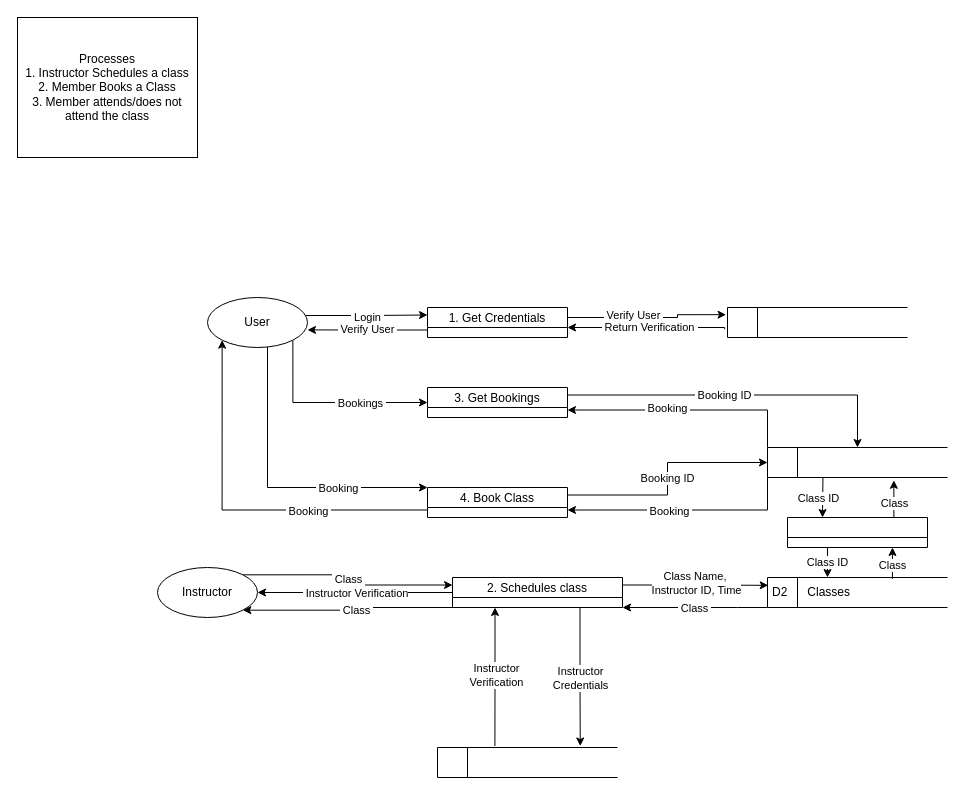
The diagram is 965 pixels wide and 795 high, and some of its shapes have lost their labels. The box of each missing label's shape, as (x1, y1, x2, y2) in pixels:
3. Get Class: (786, 516, 928, 548)
D1 Members: (726, 306, 908, 338)
D3 Bookings: (766, 446, 948, 478)
D4 Instructors: (436, 746, 618, 778)
